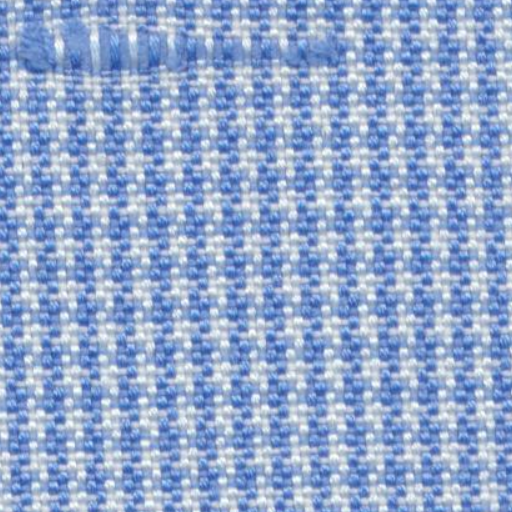DaiSha: (10, 10, 368, 83)
